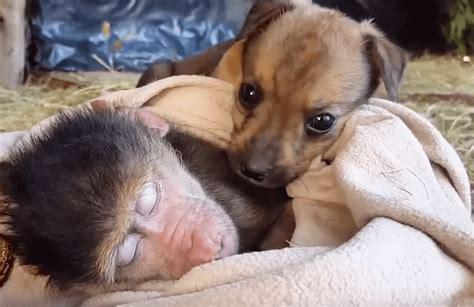dog: (226, 1, 406, 186)
monkey: (9, 100, 259, 282)
